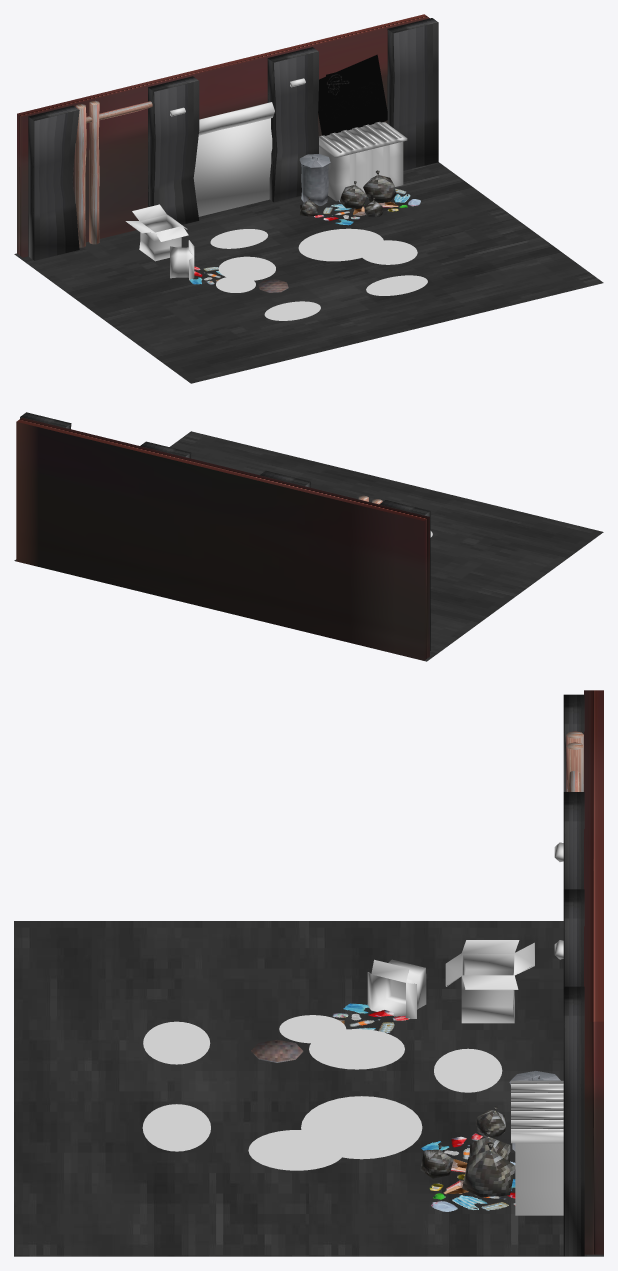
The picture shows the model from 3 angles, top to bottom: view 1: azimuth 30°, elevation 25°; view 2: azimuth 150°, elevation 25°; view 3: azimuth 270°, elevation 25°; orthographic projection. The views are drawn at different scales.
Visible parts, largest first — view 1: ground, wall_001, wall, puddle, gate, container, graffiti2, pipes, box, trash, gate_001, clutter (+4 smaller); view 2: wall, ground, wall_001; view 3: ground, puddle, wall, wall_001, container, box, box_001, clutter, bag, pipes, sewer, bag_002.
Boxes of the visible parts, x1,y1,x2,y2 form: ground: (14, 162, 603, 383); wall_001: (28, 18, 438, 260); wall: (17, 14, 429, 257); puddle: (210, 228, 427, 320); gate: (193, 118, 272, 216); container: (319, 121, 407, 201); graffiti2: (318, 54, 387, 135); pipes: (75, 100, 152, 247); box: (125, 204, 188, 261); trash: (299, 154, 330, 205); gate_001: (198, 102, 274, 135); clutter: (190, 188, 420, 284); wall: (16, 417, 429, 660); ground: (14, 431, 603, 661); wall_001: (20, 412, 430, 650); ground: (14, 921, 603, 1256); puddle: (142, 1015, 502, 1170); wall: (584, 690, 603, 1254); wall_001: (563, 694, 584, 1256); container: (511, 1080, 563, 1215); box: (445, 940, 534, 1023); box_001: (367, 959, 426, 1018); clutter: (332, 1003, 515, 1211); bag: (462, 1142, 515, 1197); pipes: (566, 731, 583, 791); sewer: (251, 1039, 303, 1062); bag_002: (420, 1145, 453, 1178).
Bounding box in the file's own units: 3002 × 984 × 2230.
